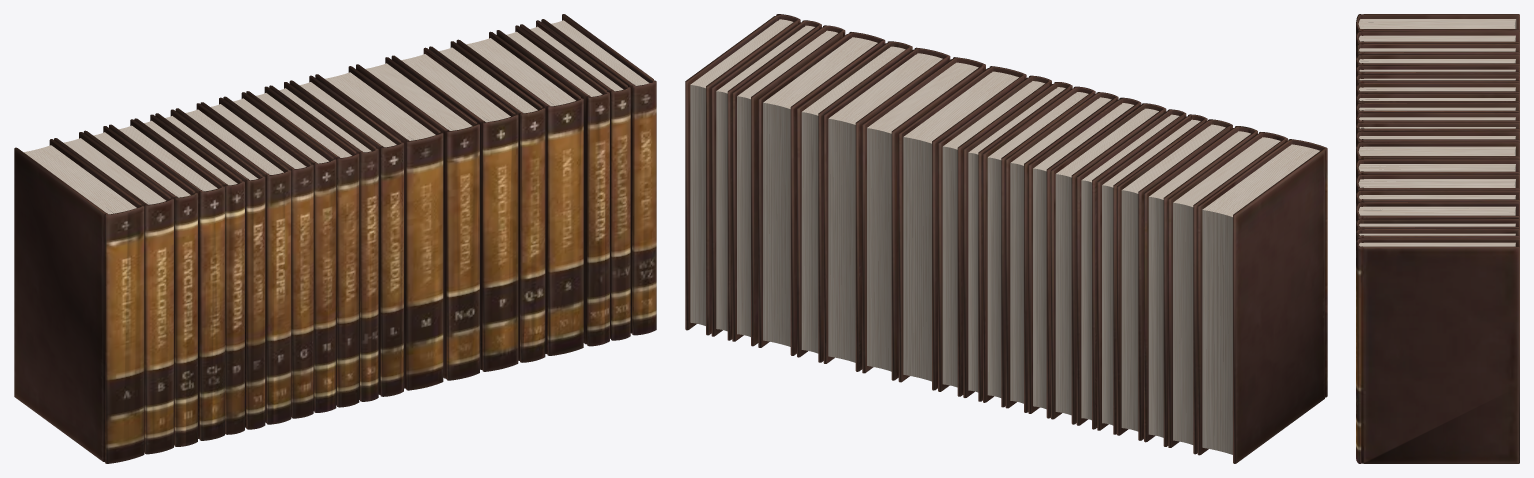
The model's file is book-encyclopedia-set-runtime-lite.glb.
3 views of the same model, side by side, from view 1: azimuth 30°, elevation 25°; view 2: azimuth 150°, elevation 25°; view 3: azimuth 270°, elevation 25° (orthographic). The views are drawn at different scales.
Parts seen in each view (by area): view 1: book_encyclopedia_set_01_book01; view 2: book_encyclopedia_set_01_book01; view 3: book_encyclopedia_set_01_book01.
Boxes of the visible parts, bbox=[...] form: book_encyclopedia_set_01_book01: bbox=[14, 14, 656, 463]; book_encyclopedia_set_01_book01: bbox=[685, 14, 1327, 463]; book_encyclopedia_set_01_book01: bbox=[1356, 14, 1519, 463].
Bounding box in the file's own units: 0.5513 × 0.2374 × 0.1631.
Materials: 2 (2 with a texture image).
